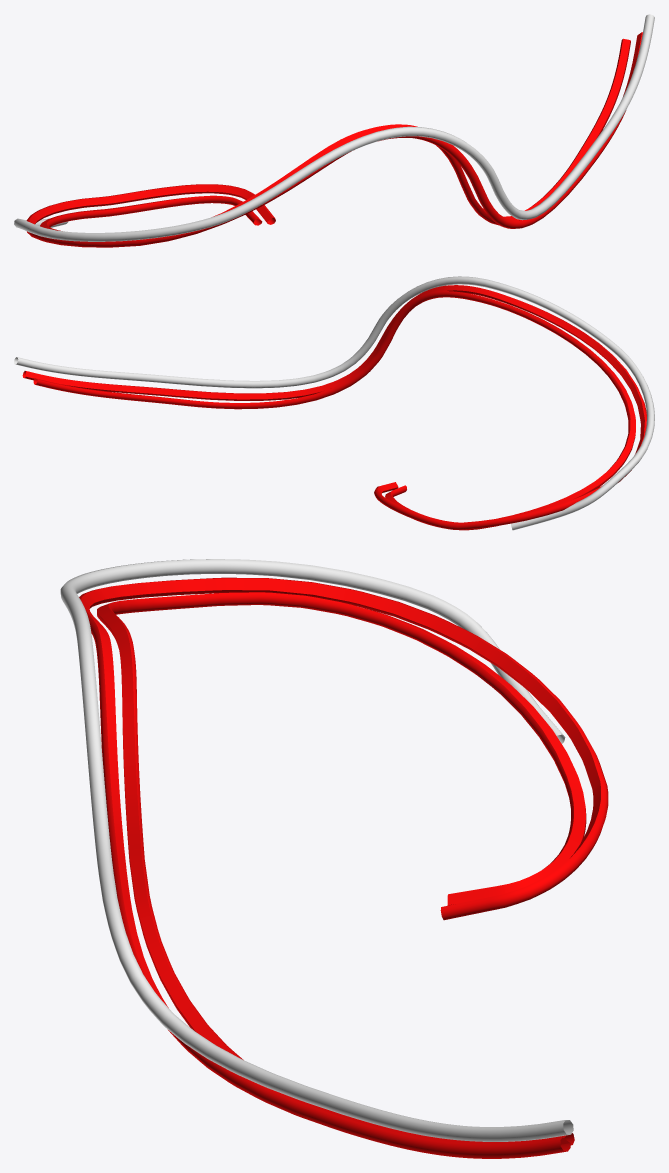
Rendered from rails3.glb.
The picture shows the model from 3 angles, top to bottom: view 1: azimuth 30°, elevation 25°; view 2: azimuth 150°, elevation 25°; view 3: azimuth 270°, elevation 25°; orthographic projection. The views are drawn at different scales.
Parts seen in each view (by area): view 1: RollercoasterSmallTube2-col, RollercoasterTube2-col, RollercoasterTube-col; view 2: RollercoasterSmallTube2-col, RollercoasterTube2-col, RollercoasterTube-col; view 3: RollercoasterTube2-col, RollercoasterSmallTube2-col, RollercoasterTube-col.
Boxes of the visible parts, x1,y1,x2,y2 form: RollercoasterSmallTube2-col: (14,14,654,241); RollercoasterTube2-col: (26,32,642,247); RollercoasterTube-col: (40,38,630,230); RollercoasterSmallTube2-col: (14,276,654,530); RollercoasterTube2-col: (22,285,646,530); RollercoasterTube-col: (33,291,635,530); RollercoasterTube2-col: (79,577,608,1158); RollercoasterSmallTube2-col: (60,559,573,1141); RollercoasterTube-col: (97,592,586,1145).
Size of the model in its own units: 63.45 by 15.27 by 26.37.
